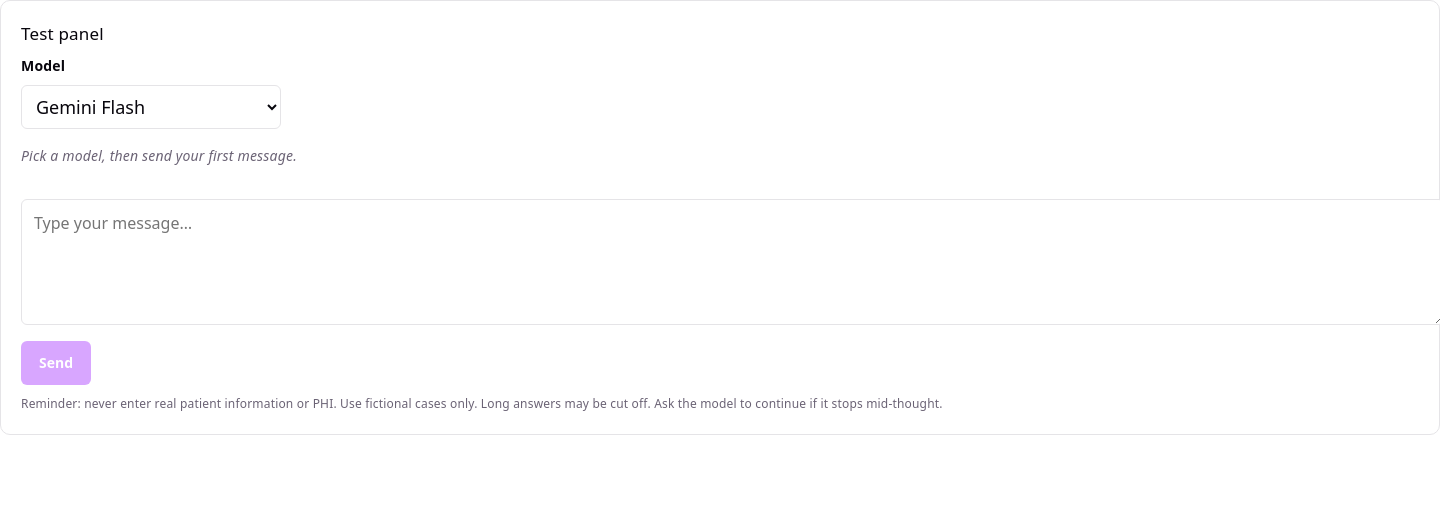
ChatPanel — failed send restores the draft › puts the typed message back in the textarea when the send fails
The width and height of the screenshot is (1452, 512).
In the text box labelled "Type your message…": [730, 262] box [21,199,1440,325], type "Explain metformin"
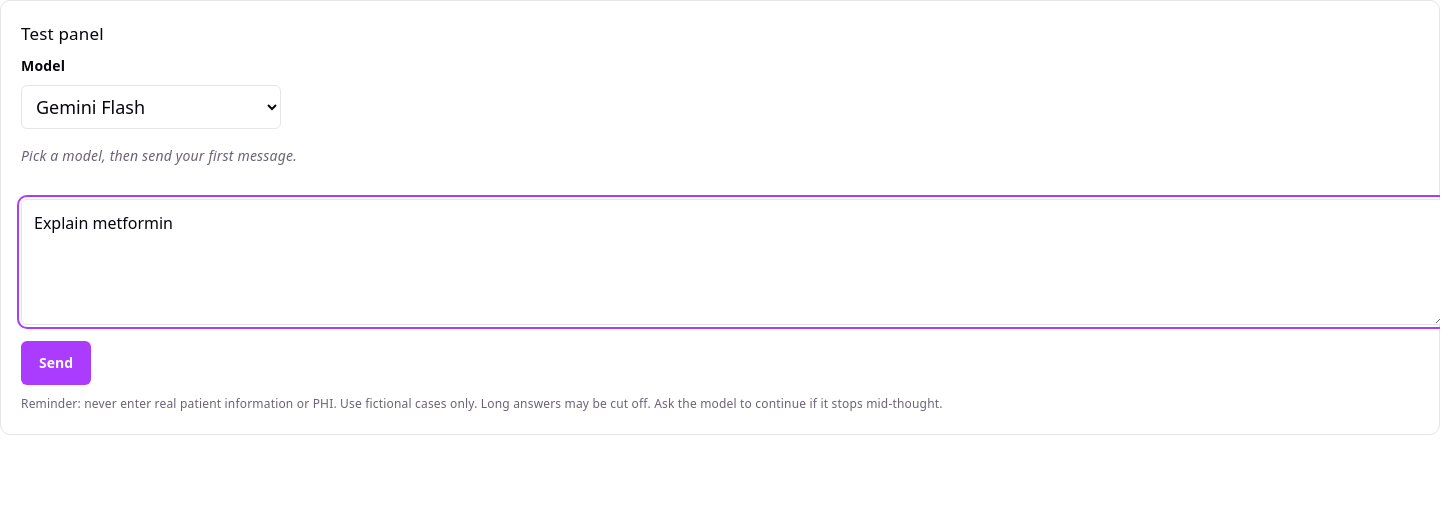
Click the button "Send": [56, 363] box [21,341,91,385]
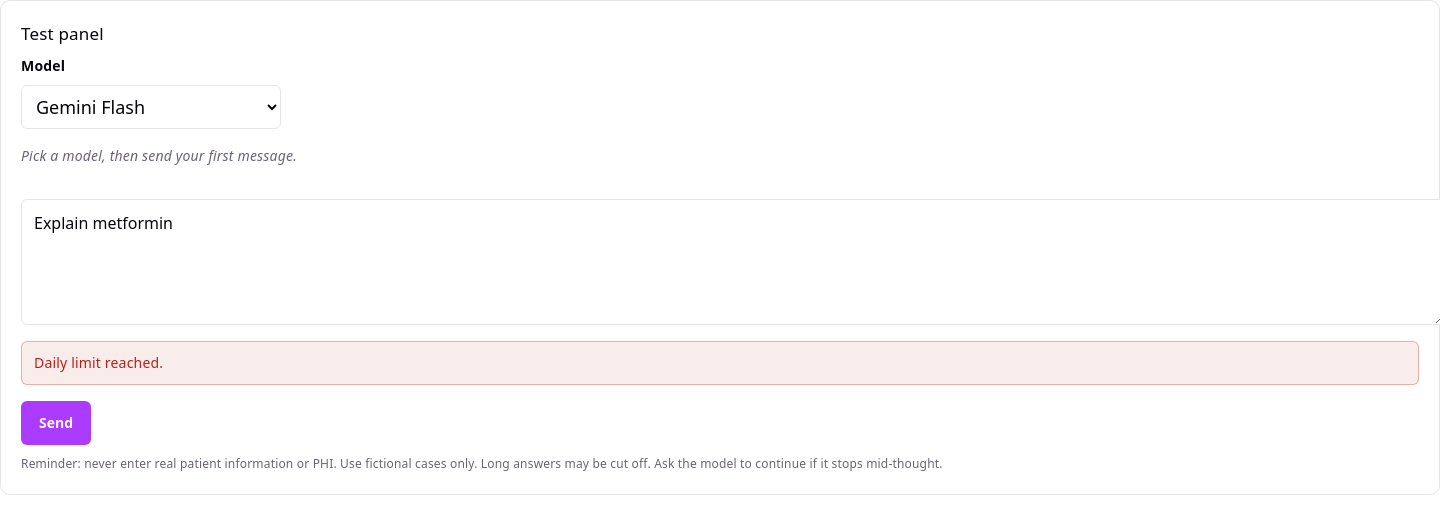
Result: the text "Daily limit reached." is shown at [21,341,1419,385]
